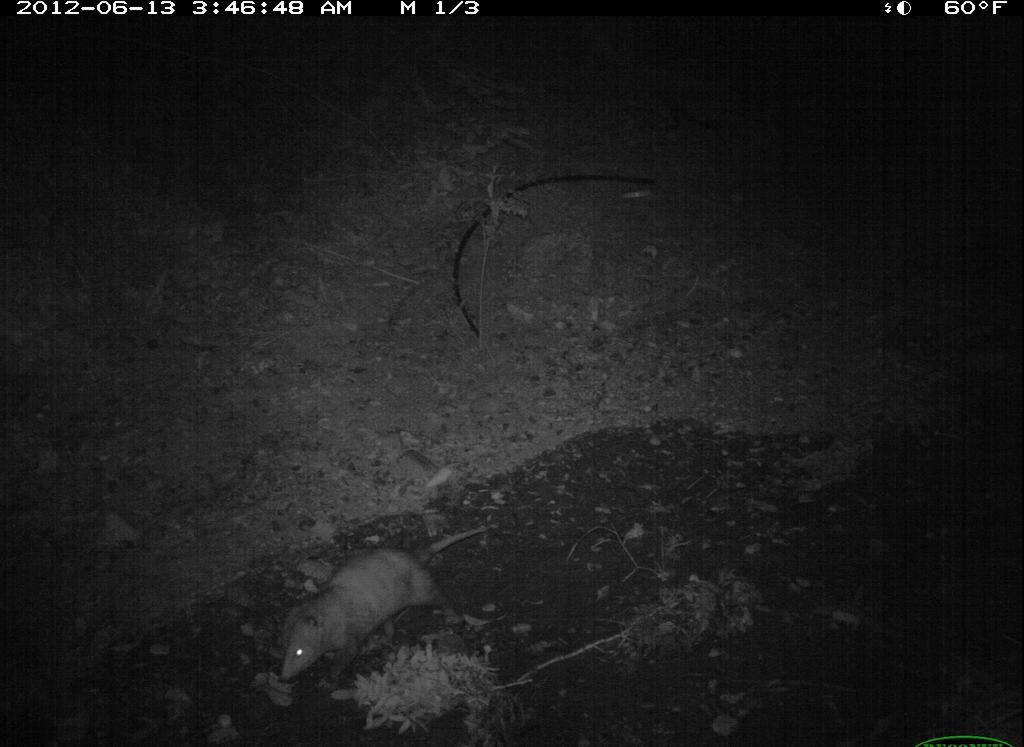opossum: (255, 525, 498, 703)
